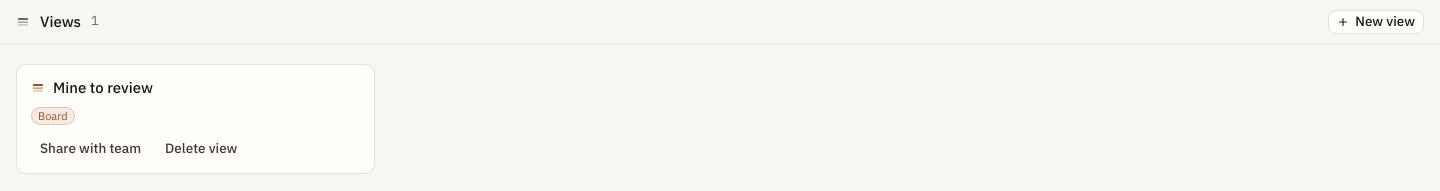
ViewsPage saved views (INV-1005) › shares a private view with the team through savedViewUpsert
Click the button "Share with team" at (91, 149), box [31, 137, 150, 161]
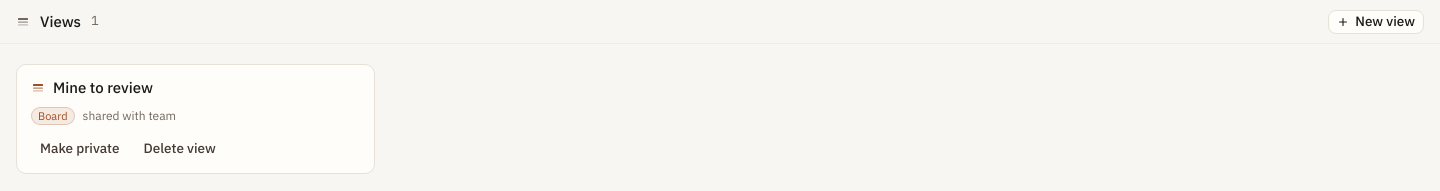
Check: the text "shared with team" is shown, box [83, 107, 176, 124]
Check: the button "Make private" is shown, box [31, 137, 128, 161]
